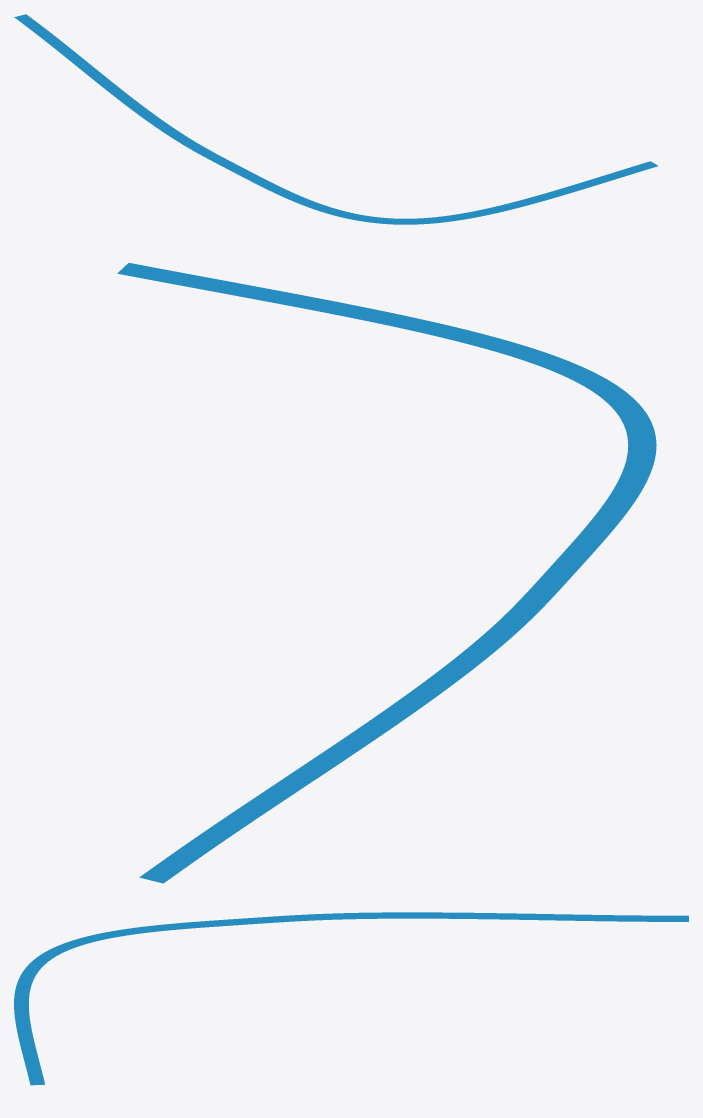
Rendered from guide.glb.
3 views of the same model, one above another, from view 1: azimuth 30°, elevation 25°; view 2: azimuth 150°, elevation 25°; view 3: azimuth 270°, elevation 25° (orthographic). The views are drawn at different scales.
Visible parts, largest first — view 1: static; view 2: static; view 3: static.
Part boxes in pixels (x1,y1,x2,y2): static: [14, 14, 657, 224]; static: [117, 263, 656, 883]; static: [14, 912, 688, 1085].
Size of the model in its own units: 9.74 by 0 by 14.53.
